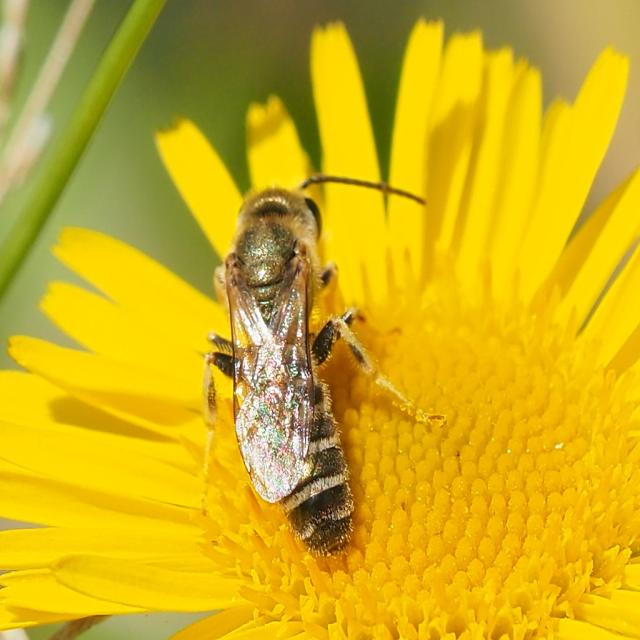Lasioglossum: (178, 157, 436, 578)
